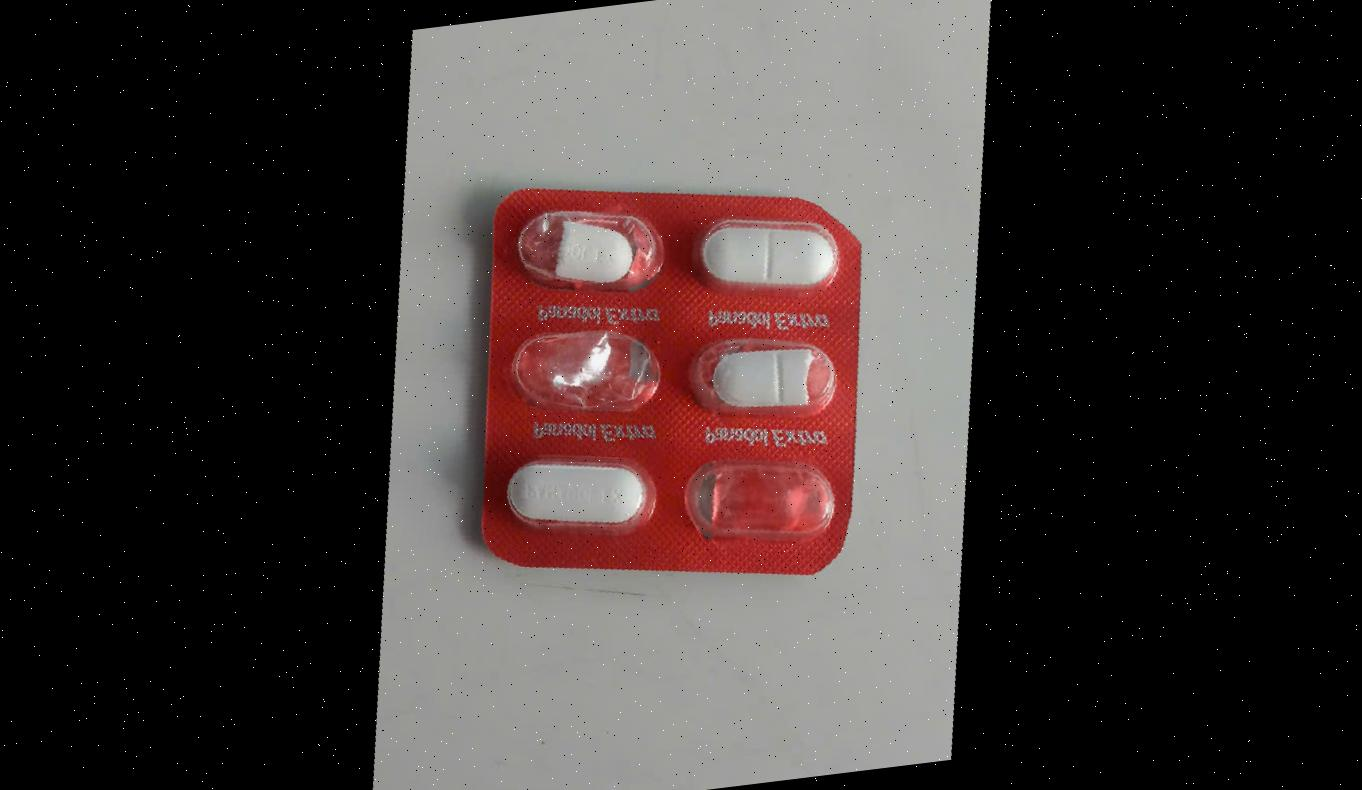Empty: (680, 455, 835, 547), (506, 327, 661, 418)
Full: (499, 446, 654, 538), (695, 208, 850, 300)
Partial: (686, 334, 840, 426), (510, 207, 664, 298)
